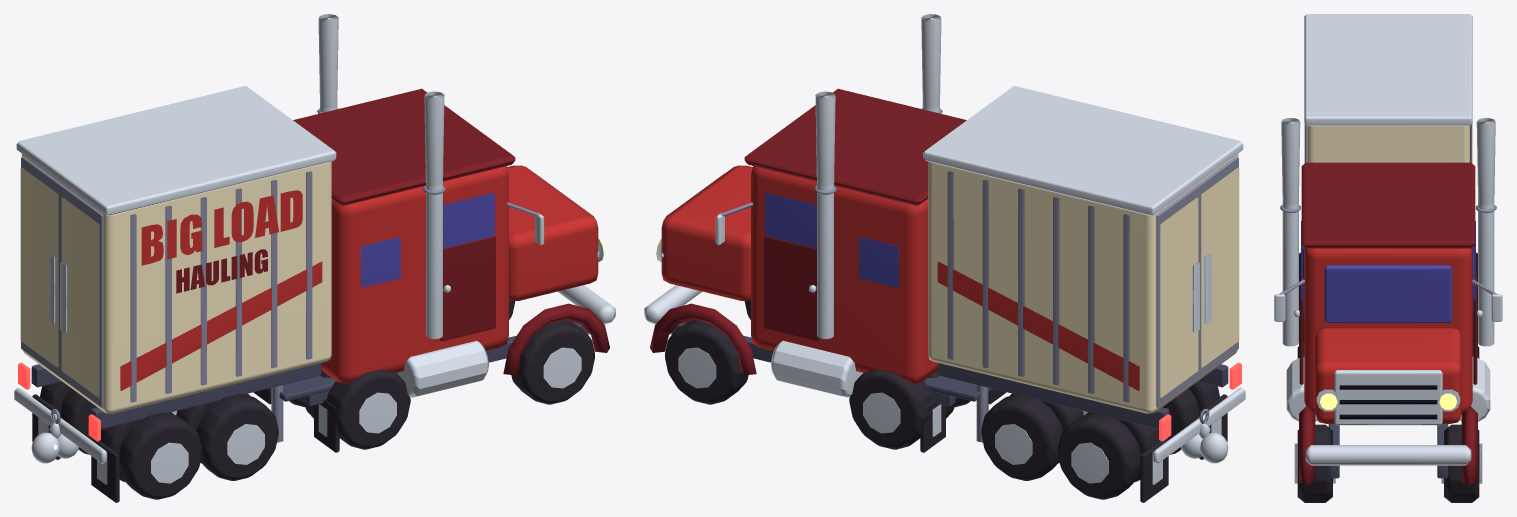
Rendered from semi_truck.glb.
The picture shows the model from 3 angles, left to right: view 1: azimuth 30°, elevation 25°; view 2: azimuth 150°, elevation 25°; view 3: azimuth 270°, elevation 25°; orthographic projection. The views are drawn at different scales.
Visible parts, largest first — view 1: Semi; view 2: Semi; view 3: Semi.
Boxes of the visible parts, bbox=[...] form: Semi: bbox=[14, 14, 615, 502]; Semi: bbox=[644, 14, 1245, 502]; Semi: bbox=[1274, 14, 1502, 502].
Bounding box in the file's own units: 4.25 × 2.59 × 1.68.
